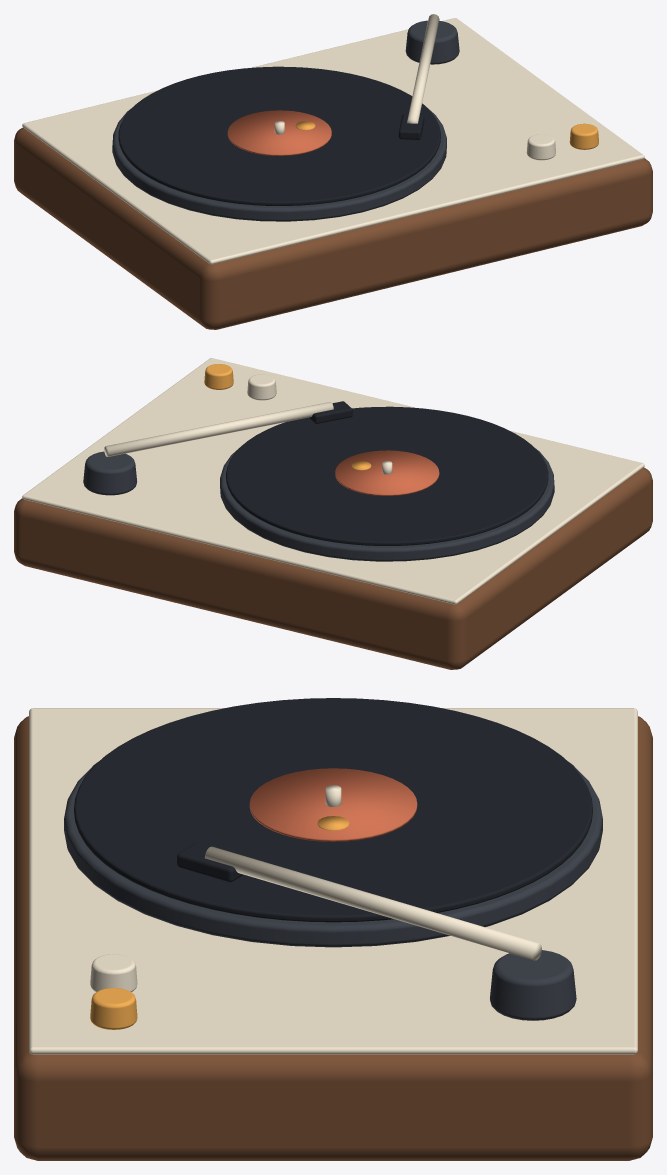
Rendered from vinyl.glb.
3 renders of one model, top to bottom at view 1: azimuth 30°, elevation 25°; view 2: azimuth 150°, elevation 25°; view 3: azimuth 270°, elevation 25°, orthographic. The views are drawn at different scales.
Visible parts, largest first — view 1: VinylPlinth, VinylTopPlate, Wax, Platter, Hub, TonearmBase, Tonearm, VinylKnob, VinylKnob.001, Headshell; view 2: VinylPlinth, VinylTopPlate, Wax, Platter, Hub, Tonearm, TonearmBase, VinylKnob, VinylKnob.001, Headshell; view 3: VinylTopPlate, VinylPlinth, Wax, Platter, Hub, Tonearm, TonearmBase, VinylKnob.001, VinylKnob, Headshell.
Part boxes in pixels (left/top/right/bottom): VinylPlinth: left=14, top=127, right=652, bottom=329; VinylTopPlate: left=22, top=18, right=644, bottom=264; Wax: left=118, top=66, right=440, bottom=205; Platter: left=112, top=105, right=446, bottom=221; Hub: left=227, top=110, right=331, bottom=155; TonearmBase: left=405, top=20, right=459, bottom=64; Tonearm: left=407, top=14, right=439, bottom=123; VinylKnob: left=526, top=134, right=555, bottom=160; VinylKnob.001: left=569, top=123, right=598, bottom=149; Headshell: left=398, top=114, right=424, bottom=139; VinylPlinth: left=14, top=467, right=652, bottom=669; VinylTopPlate: left=22, top=358, right=644, bottom=604; Wax: left=226, top=406, right=548, bottom=545; Platter: left=220, top=448, right=554, bottom=561; Hub: left=335, top=450, right=439, bottom=495; Tonearm: left=104, top=402, right=333, bottom=456; TonearmBase: left=83, top=451, right=137, bottom=495; VinylKnob: left=247, top=374, right=276, bottom=400; VinylKnob.001: left=204, top=364, right=233, bottom=389; Headshell: left=309, top=401, right=352, bottom=423; VinylTopPlate: left=29, top=708, right=637, bottom=1054; VinylPlinth: left=14, top=716, right=652, bottom=1160; Wax: left=74, top=698, right=592, bottom=922; Platter: left=64, top=761, right=602, bottom=947; Hub: left=249, top=768, right=417, bottom=841; Tonearm: left=204, top=846, right=541, bottom=960; TonearmBase: left=490, top=950, right=576, bottom=1020; VinylKnob.001: left=90, top=988, right=137, bottom=1029; VinylKnob: left=90, top=954, right=137, bottom=991; Headshell: left=177, top=843, right=243, bottom=882.
Size of the model in its own units: 0.42 by 0.1025 by 0.32.
